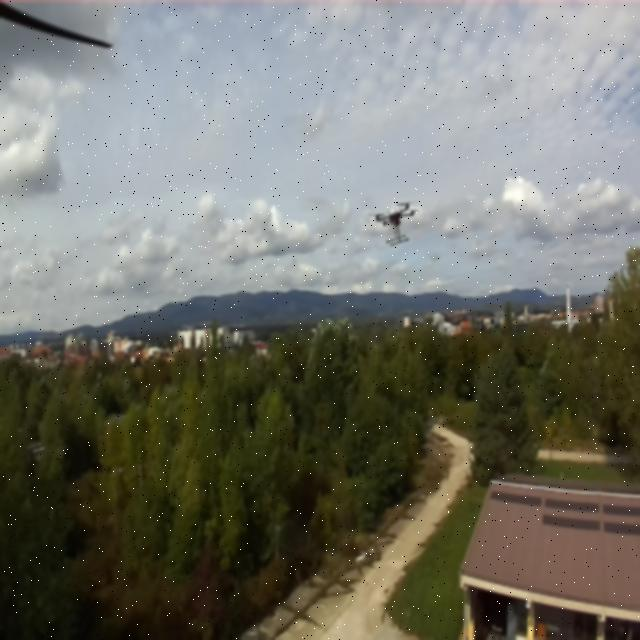UAV: (368, 196, 420, 246)
